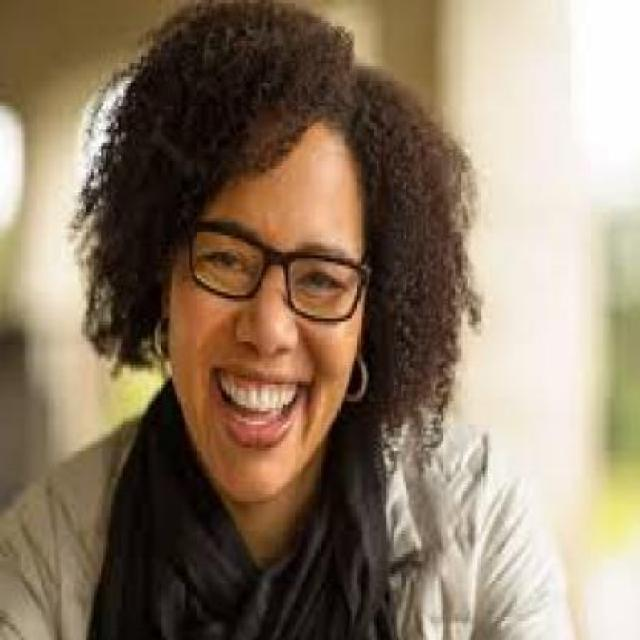glasses: (187, 208, 371, 332)
